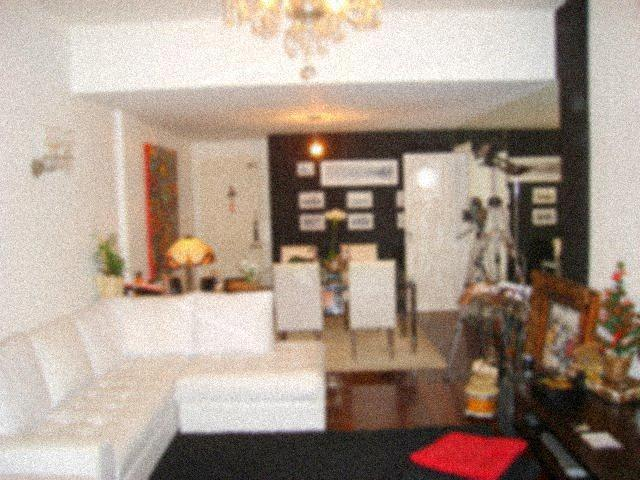Otro Obstaculo: (438, 150, 535, 381), (461, 200, 501, 347), (462, 359, 504, 414)
Puerta: (405, 155, 454, 309), (199, 162, 260, 262)
